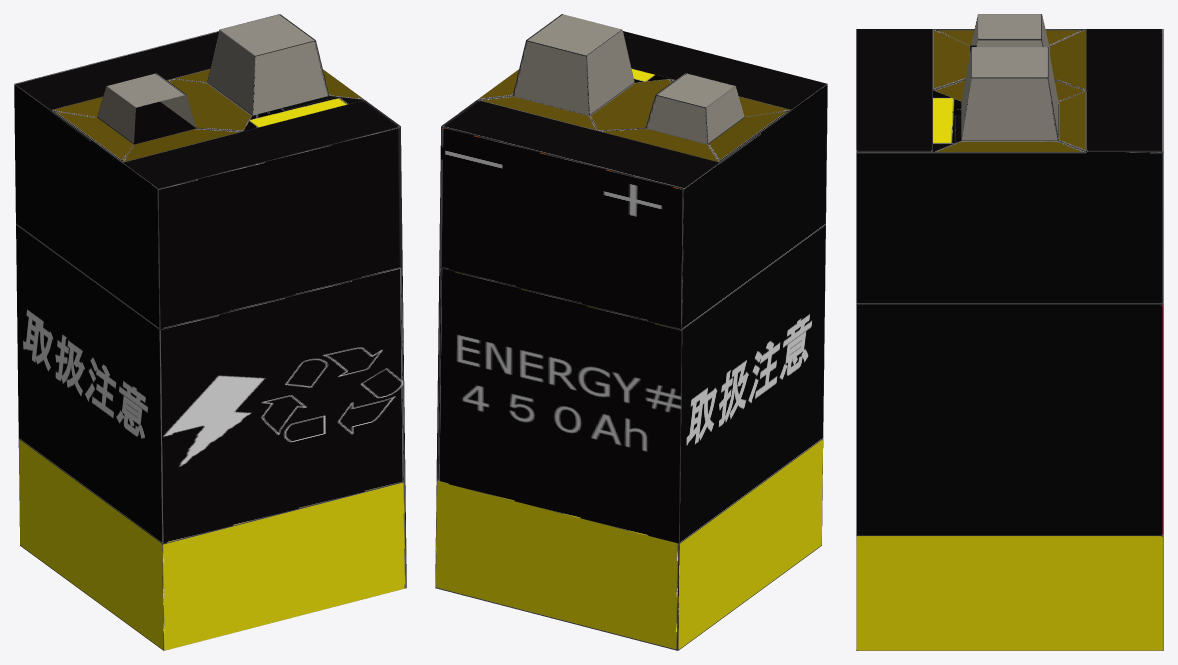
Rendered from Battery_during.fbx.
The picture shows the model from 3 angles, left to right: view 1: azimuth 30°, elevation 25°; view 2: azimuth 150°, elevation 25°; view 3: azimuth 270°, elevation 25°; orthographic projection. The views are drawn at different scales.
Visible parts, largest first — view 1: Cube; view 2: Cube; view 3: Cube.
Boxes of the visible parts, box(x1,y1,x2,y2) form: Cube: box(14, 14, 406, 650); Cube: box(435, 14, 827, 650); Cube: box(856, 14, 1163, 650).
Bounding box in the file's own units: 200 × 400 × 200.
